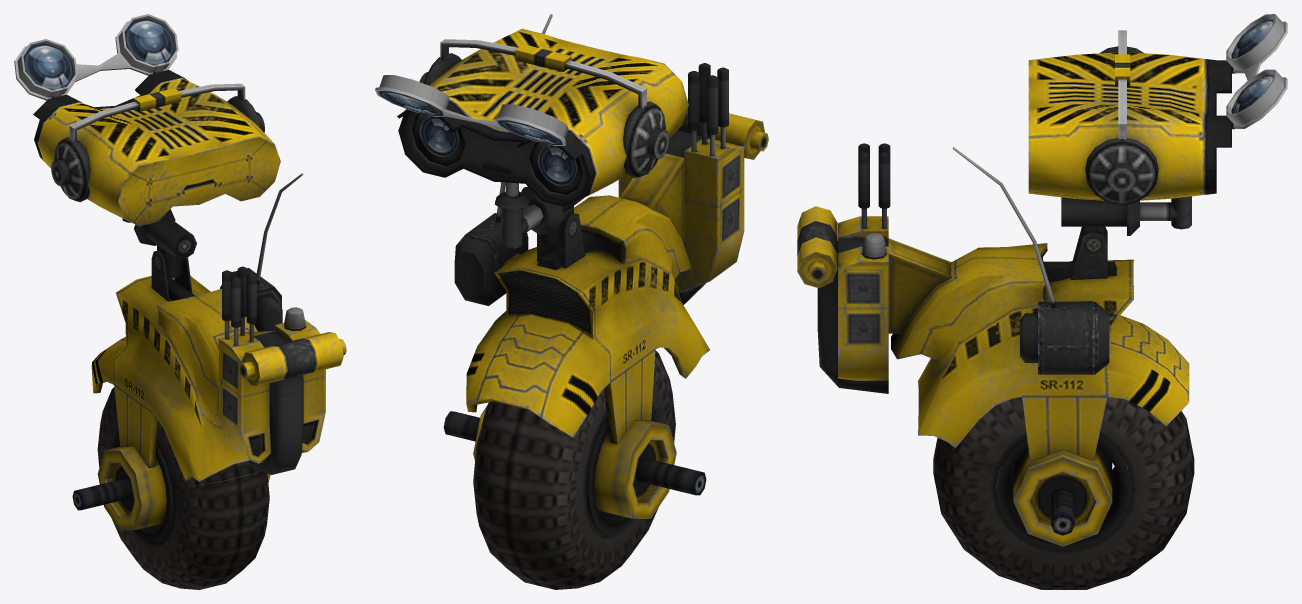
File: scout_rover.dae
3 views of the same model, side by side, from view 1: azimuth 30°, elevation 25°; view 2: azimuth 150°, elevation 25°; view 3: azimuth 270°, elevation 25° (orthographic). The views are drawn at different scales.
Visible parts, largest first — view 1: scout_body, scout_head, scout_wheel, scout_glasses001, Cylinder156; view 2: scout_body, scout_head, scout_wheel, scout_glasses001, Cylinder156, Cylinder157; view 3: scout_body, scout_head, scout_wheel, scout_glasses001, Cylinder156.
Part boxes in pixels (left/top/right/bottom): scout_body: left=72, top=173, right=346, bottom=530; scout_head: left=33, top=69, right=280, bottom=226; scout_wheel: left=97, top=387, right=269, bottom=589; scout_glasses001: left=14, top=14, right=178, bottom=100; Cylinder156: left=134, top=209, right=196, bottom=279; scout_body: left=443, top=14, right=768, bottom=518; scout_head: left=397, top=28, right=688, bottom=206; scout_wheel: left=473, top=350, right=675, bottom=589; scout_glasses001: left=375, top=75, right=568, bottom=146; Cylinder156: left=521, top=186, right=583, bottom=247; Cylinder157: left=495, top=182, right=529, bottom=248; scout_body: left=797, top=143, right=1189, bottom=546; scout_head: left=1028, top=30, right=1234, bottom=204; scout_wheel: left=933, top=397, right=1194, bottom=589; scout_glasses001: left=1226, top=14, right=1287, bottom=128; Cylinder156: left=1061, top=197, right=1179, bottom=235.
Bounding box in the file's own units: 0.3753 × 0.6716 × 0.8107.
1 material, 1 textured.
